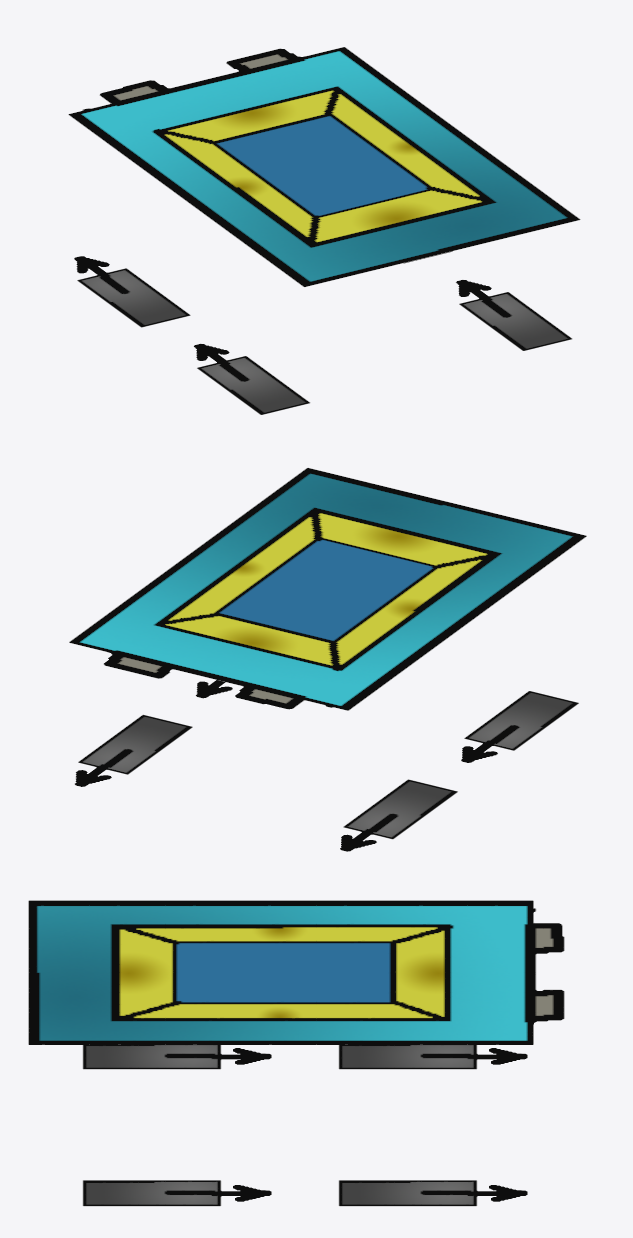
File: CarTest.fbx
3 views of the same model, one above another, from view 1: azimuth 30°, elevation 25°; view 2: azimuth 150°, elevation 25°; view 3: azimuth 270°, elevation 25° (orthographic). The views are drawn at different scales.
Visible parts, largest first — view 1: CarBody, Wheel, Wheel1, Wheel2; view 2: CarBody, Wheel, Wheel3, Wheel1; view 3: CarBody, Wheel3, Wheel2, Wheel, Wheel1.
Part boxes in pixels (left/top/right/bottom): CarBody: left=68, top=47, right=580, bottom=287; Wheel: left=74, top=256, right=190, bottom=327; Wheel1: left=193, top=343, right=310, bottom=414; Wheel2: left=455, top=279, right=572, bottom=350; CarBody: left=69, top=467, right=586, bottom=710; Wheel: left=340, top=779, right=457, bottom=851; Wheel3: left=75, top=714, right=192, bottom=786; Wheel1: left=461, top=691, right=578, bottom=762; CarBody: left=28, top=900, right=564, bottom=1044; Wheel3: left=338, top=1180, right=527, bottom=1206; Wheel2: left=82, top=1180, right=271, bottom=1206; Wheel: left=338, top=1045, right=527, bottom=1069; Wheel1: left=82, top=1045, right=271, bottom=1069.
Size of the model in its own units: 10.21 by 3.73 by 13.43.
1 material, 1 textured.
